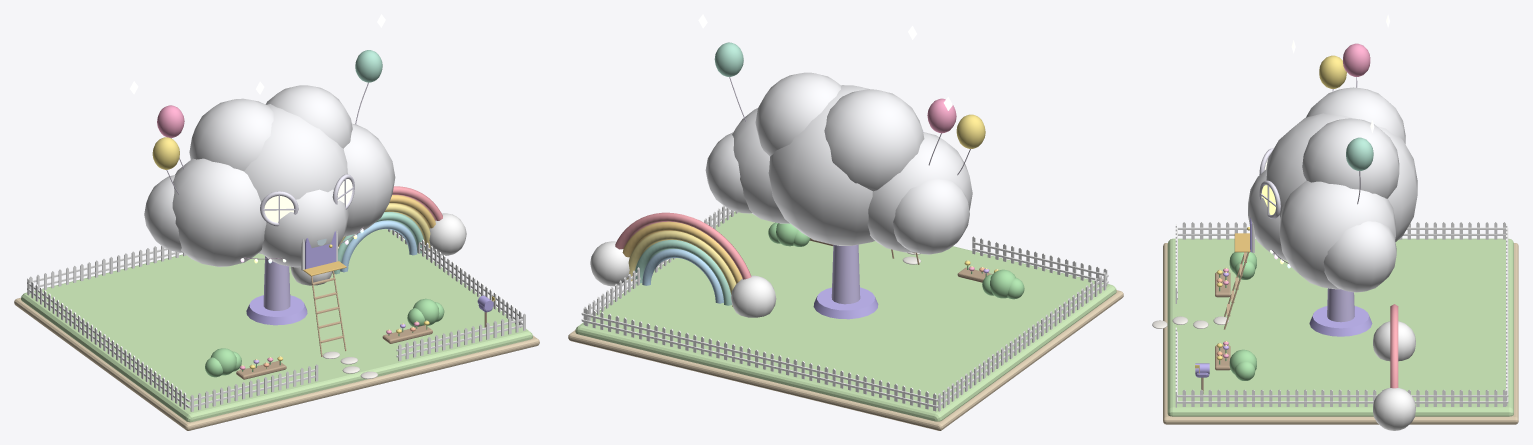
Rendered from building_sky_L09.glb.
3 renders of one model, left to right at view 1: azimuth 30°, elevation 25°; view 2: azimuth 150°, elevation 25°; view 3: azimuth 270°, elevation 25°, orthographic. The views are drawn at different scales.
Parts seen in each view (by area): view 1: sky_L9, object 1; view 2: sky_L9; view 3: sky_L9.
Part boxes in pixels (x1,y1,x2,y2): sky_L9: (14, 50, 539, 430); object 1: (264, 196, 293, 222); sky_L9: (568, 42, 1123, 430); sky_L9: (1152, 43, 1518, 430).
Size of the model in its own units: 29.3 by 19.47 by 23.29.
